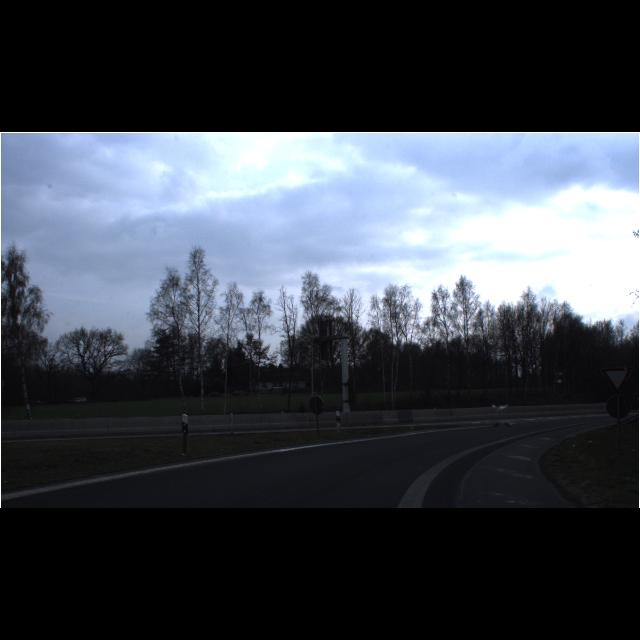other: (600, 366, 632, 396)
